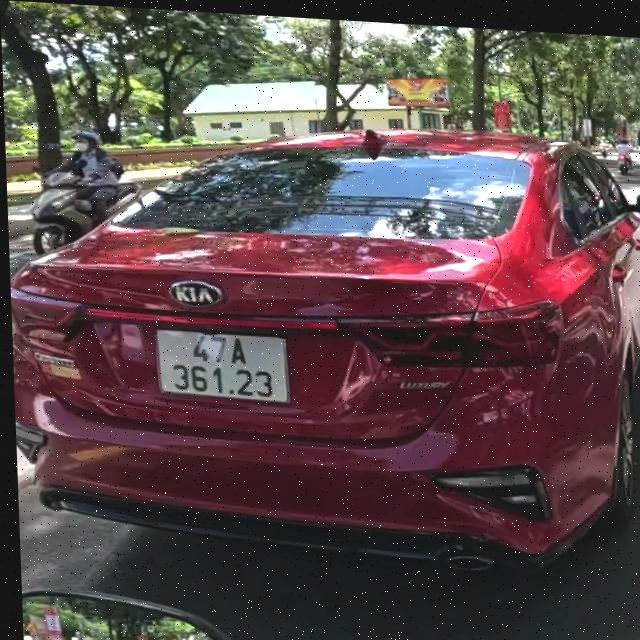car: (4, 98, 640, 588)
motorcycle: (18, 163, 143, 260)
plate: (150, 318, 298, 412)
